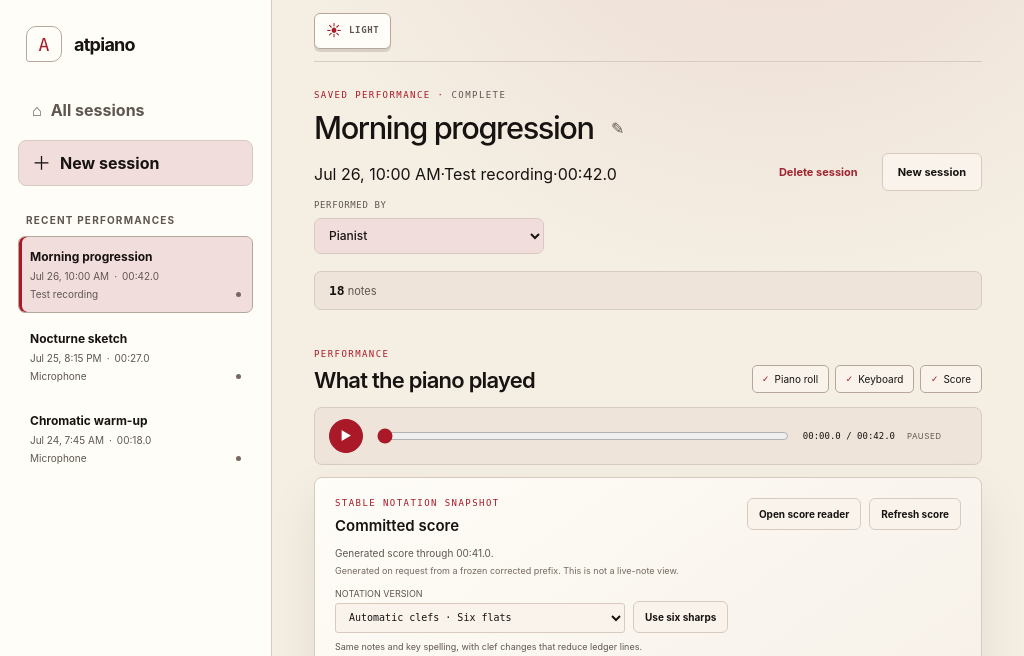
Scenario: shared application › explains when the committed model detected no piano notes
The image size is (1024, 656).
Expected: the heading "Morning progression" is shown, [314,111,594,145]
What coordinates should you click on to do the following:
click the button "Refresh score"
I would click on:
 (915, 514)
Its box is [869,498,961,530].
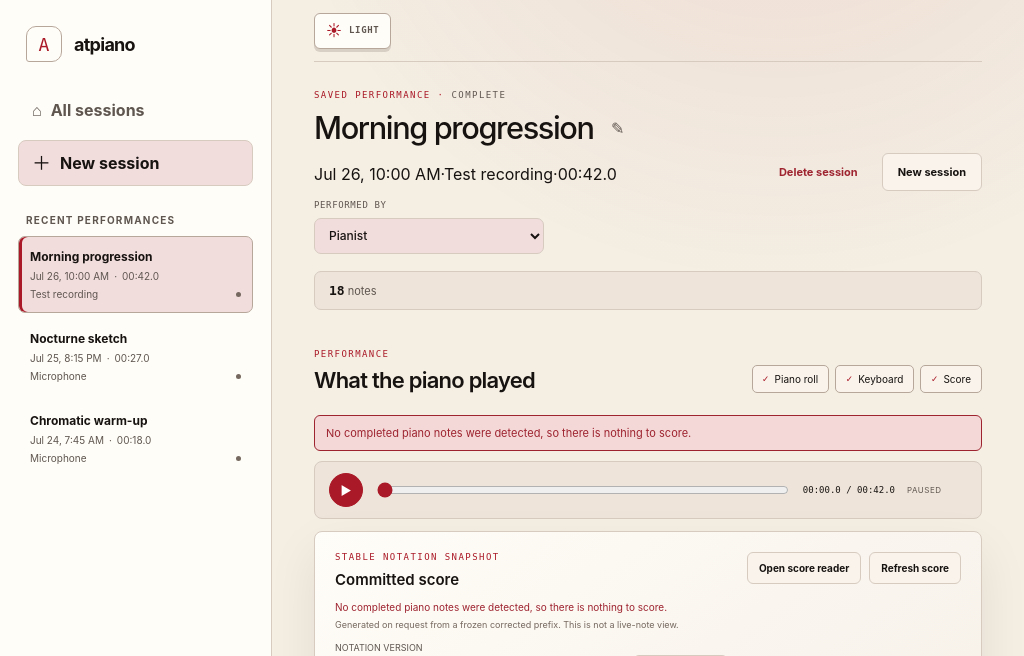
Result: the text "No completed piano notes were detected, so there is nothing to score." is shown 2 times at [314,415,982,451]; [335,601,667,613]
